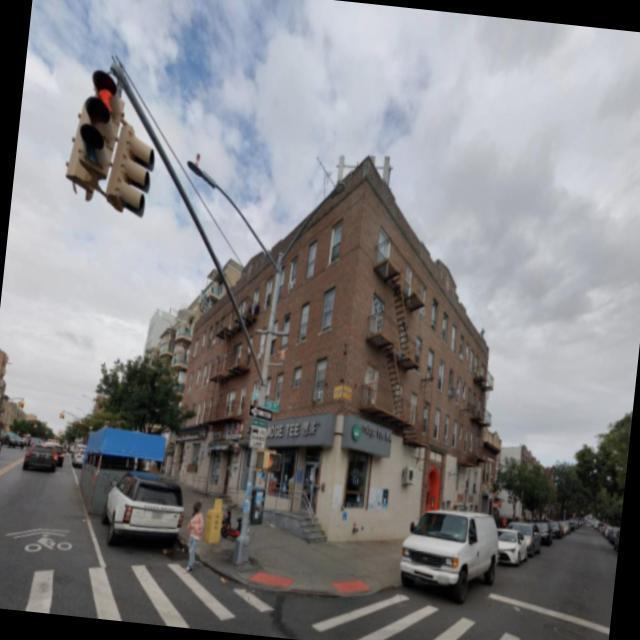off: (188, 113, 330, 322)
